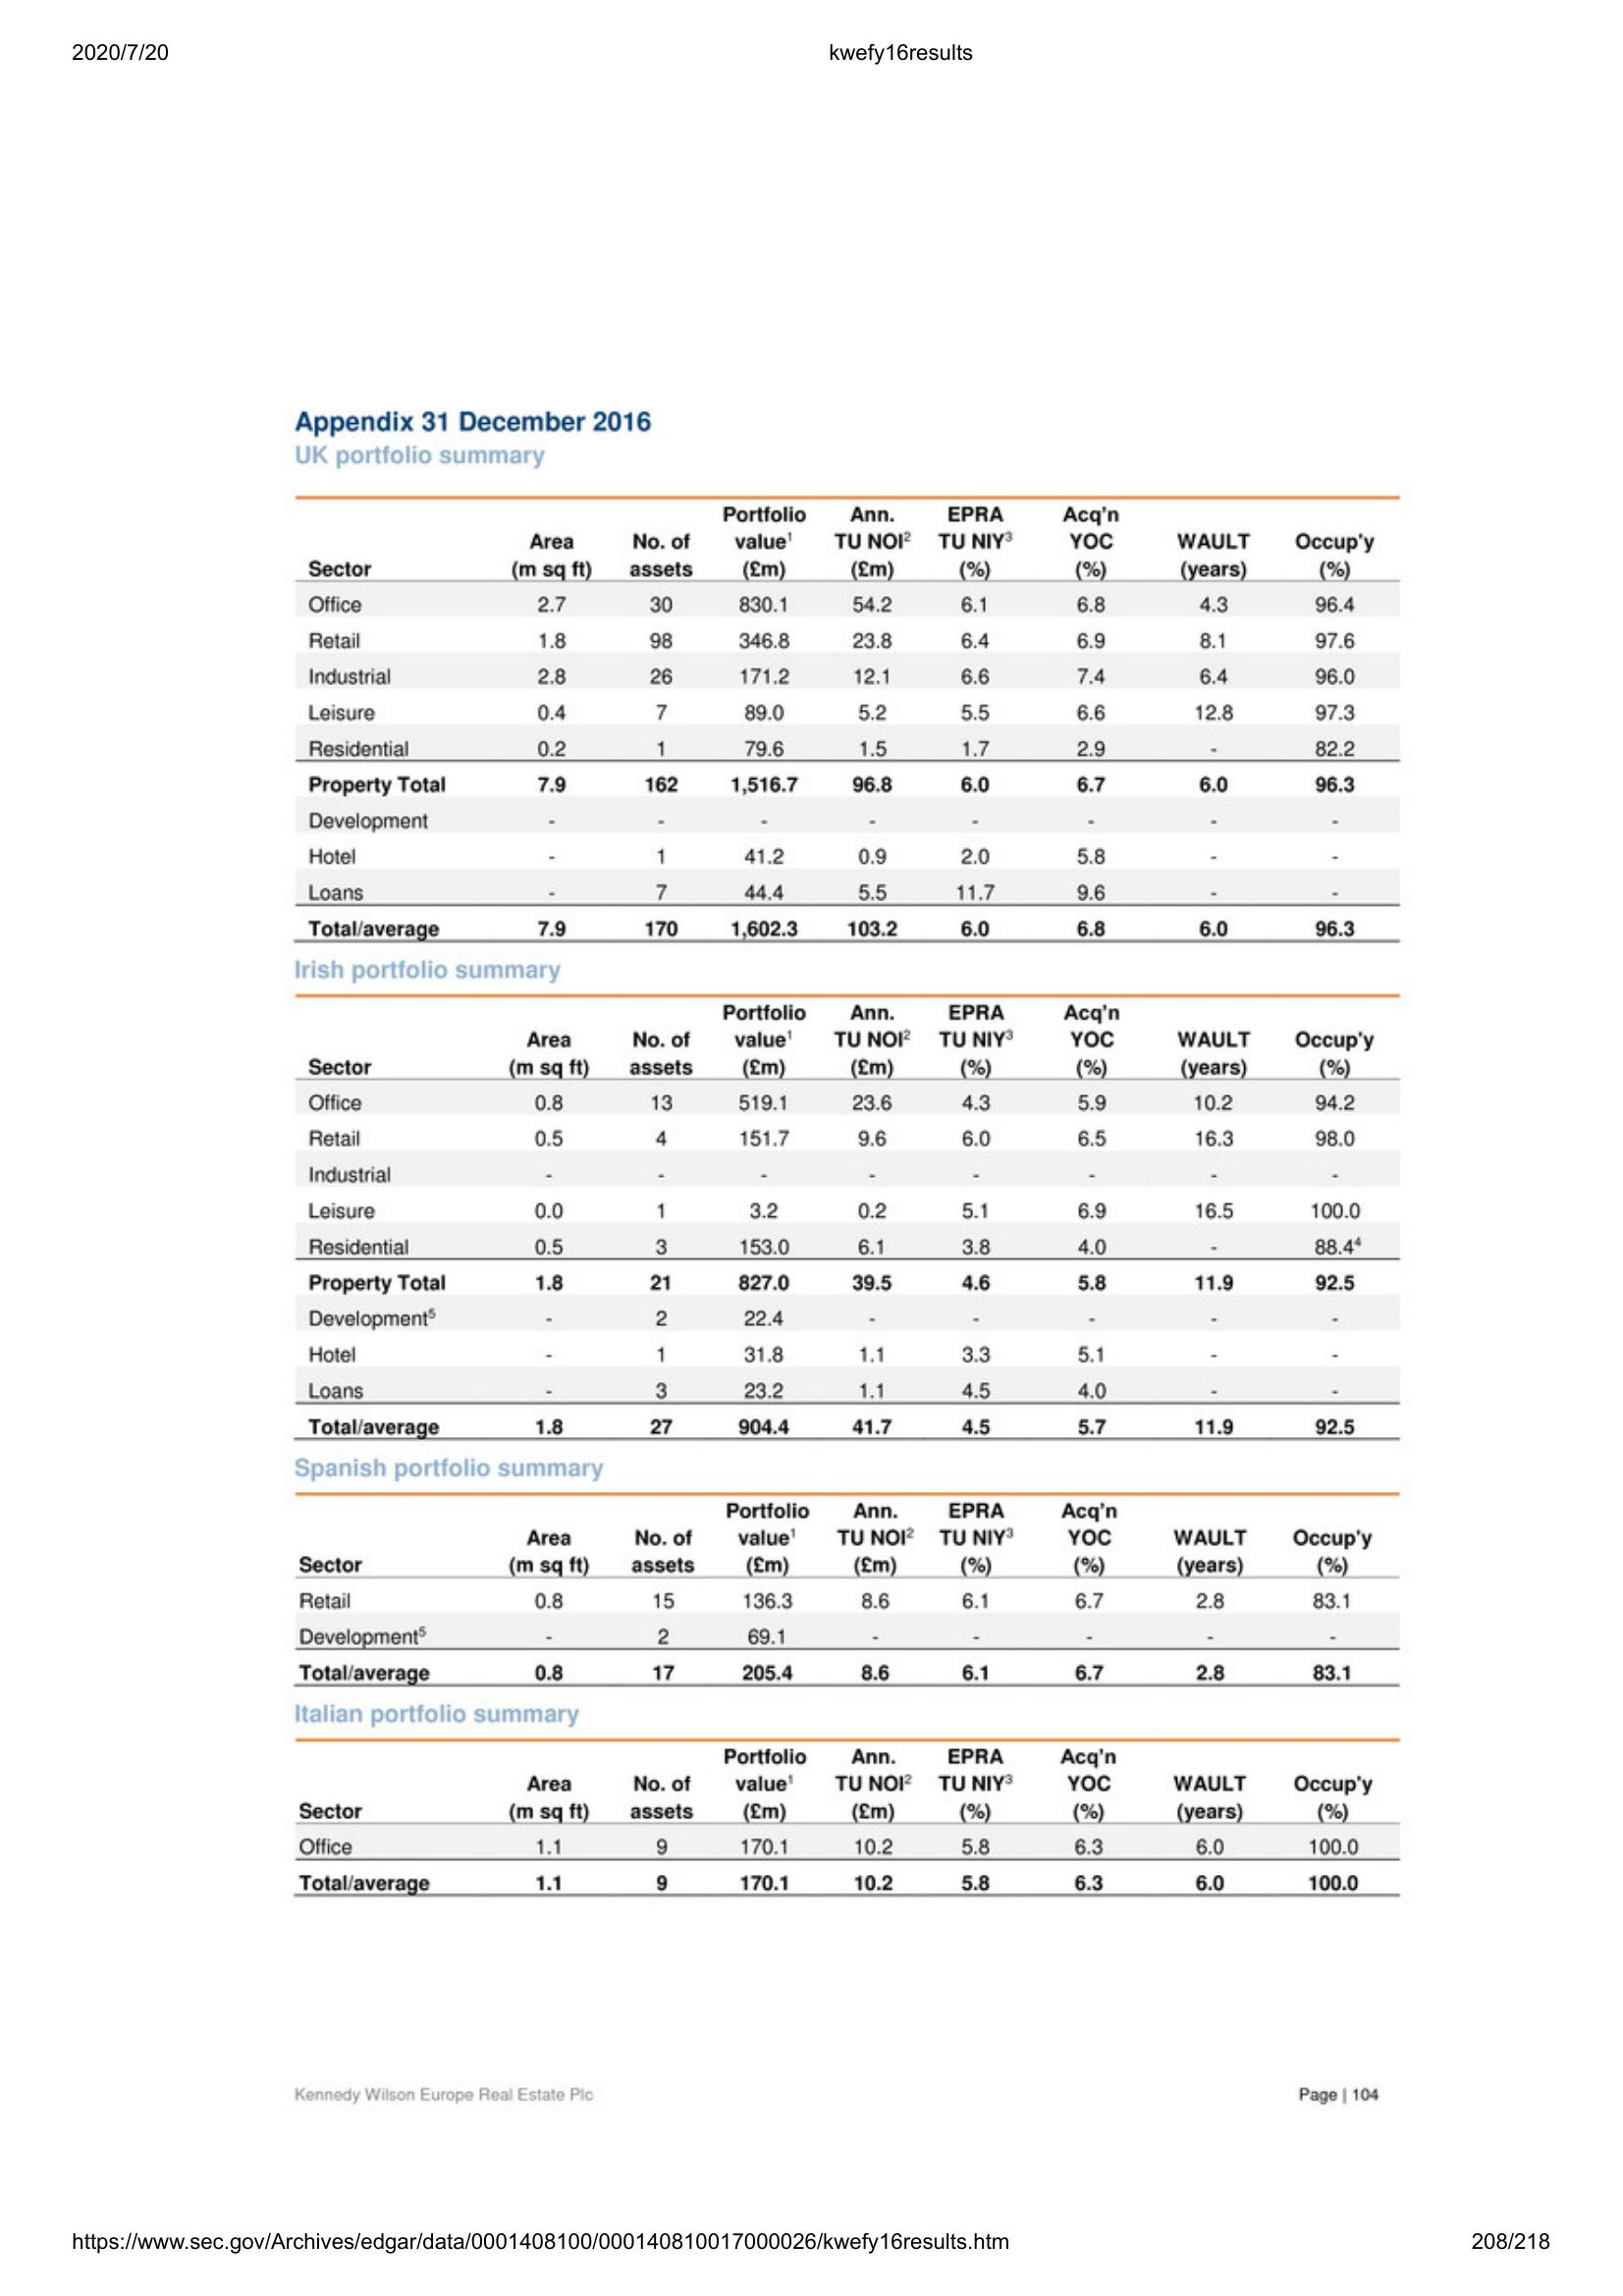table: (288, 988, 1412, 1450), (290, 493, 1412, 955), (293, 1480, 1414, 1704), (286, 1733, 1410, 1908)
